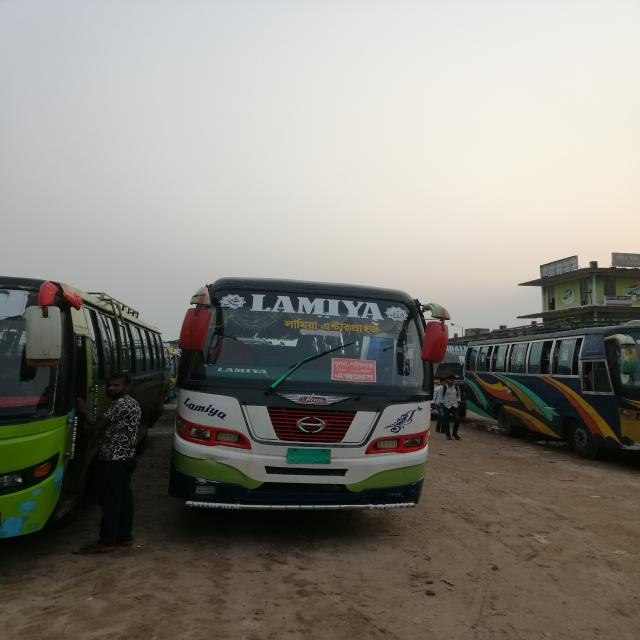Bus: (164, 266, 456, 519)
